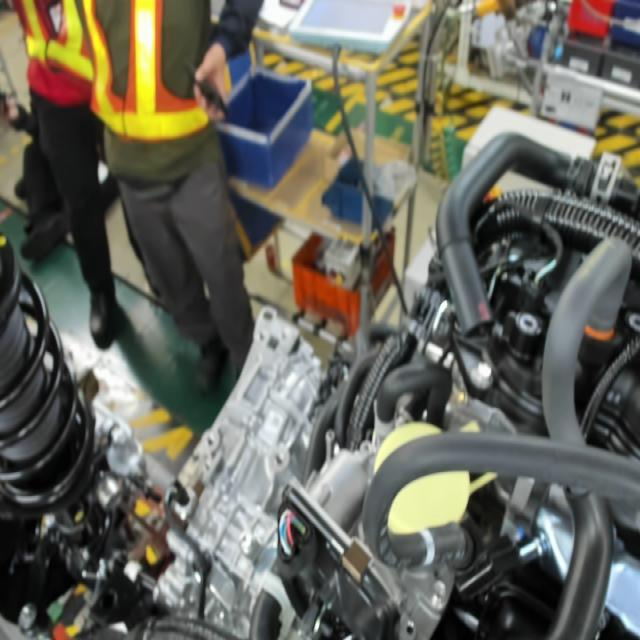Tube Sub Assy Fuel-W: (410, 526, 440, 572)
